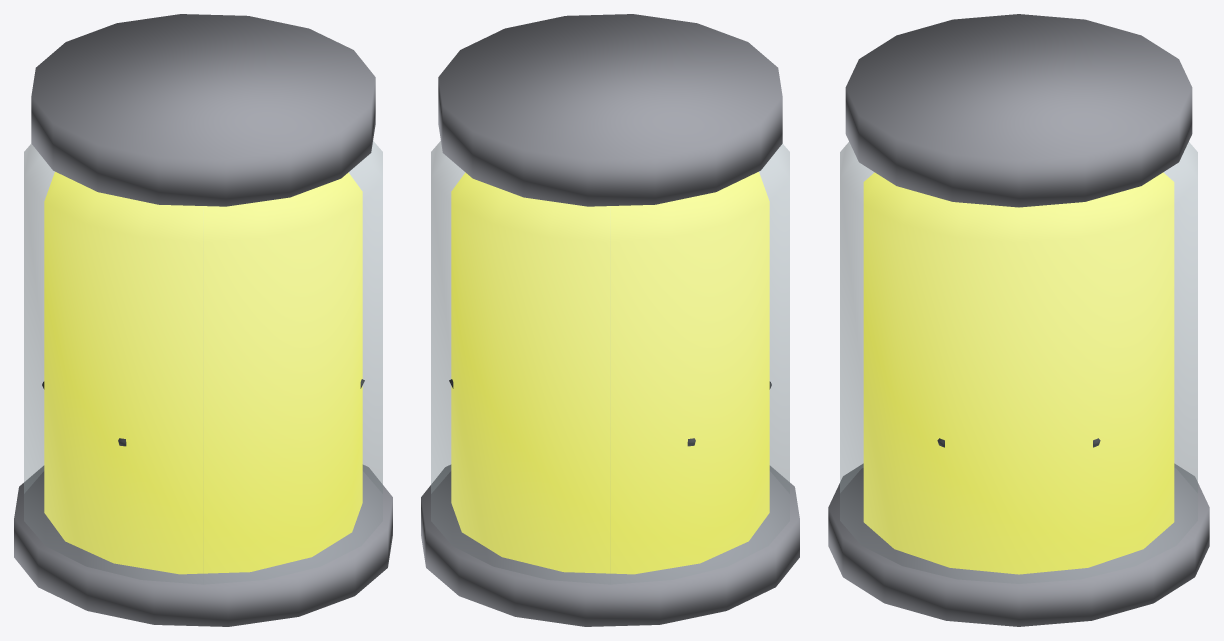
The model's file is specimen_jar_spider.glb.
3 renders of one model, left to right at view 1: azimuth 30°, elevation 25°; view 2: azimuth 150°, elevation 25°; view 3: azimuth 270°, elevation 25°, orthographic.
Visible parts, largest first — view 1: GD_specimen_jar_spider__m0, GD_specimen_jar_spider__m1, GD_specimen_jar_spider__m3; view 2: GD_specimen_jar_spider__m0, GD_specimen_jar_spider__m1, GD_specimen_jar_spider__m3; view 3: GD_specimen_jar_spider__m0, GD_specimen_jar_spider__m1, GD_specimen_jar_spider__m3.
Part boxes in pixels (x1=…): GD_specimen_jar_spider__m0: x1=24, y1=141, x2=382, y2=584; GD_specimen_jar_spider__m1: x1=44, y1=172, x2=362, y2=574; GD_specimen_jar_spider__m3: x1=14, y1=14, x2=392, y2=626; GD_specimen_jar_spider__m0: x1=431, y1=141, x2=789, y2=584; GD_specimen_jar_spider__m1: x1=451, y1=172, x2=769, y2=574; GD_specimen_jar_spider__m3: x1=421, y1=14, x2=799, y2=626; GD_specimen_jar_spider__m0: x1=840, y1=142, x2=1197, y2=583; GD_specimen_jar_spider__m1: x1=863, y1=172, x2=1174, y2=574; GD_specimen_jar_spider__m3: x1=828, y1=14, x2=1209, y2=626.
Size of the model in its own units: 0.22 by 0.2925 by 0.22.
